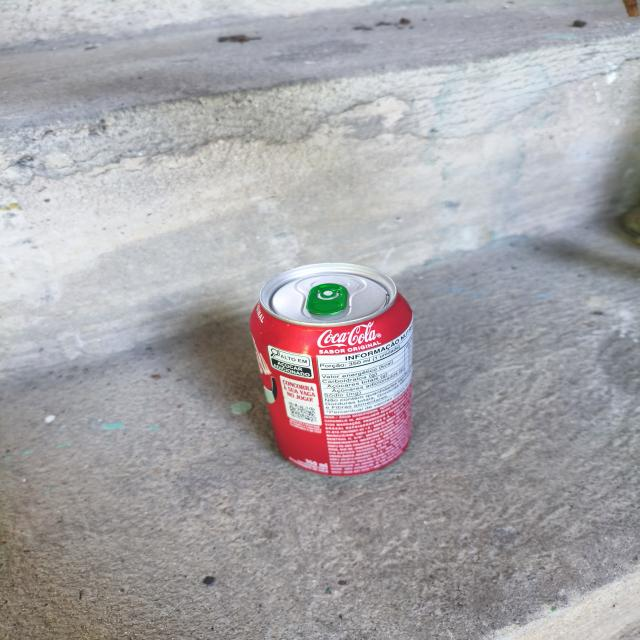Coca Cola: (228, 267, 490, 484)
